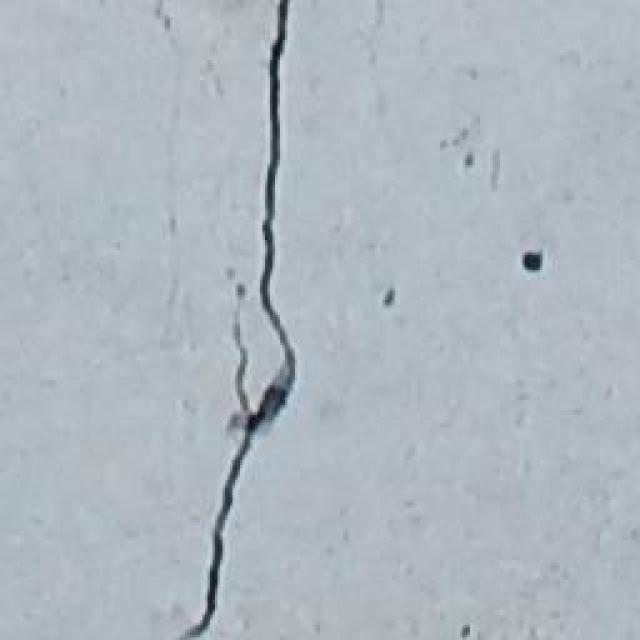diagonal crack: (167, 7, 319, 639)
